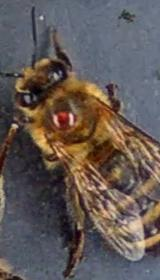varroa_mite: (40, 101, 82, 135)
